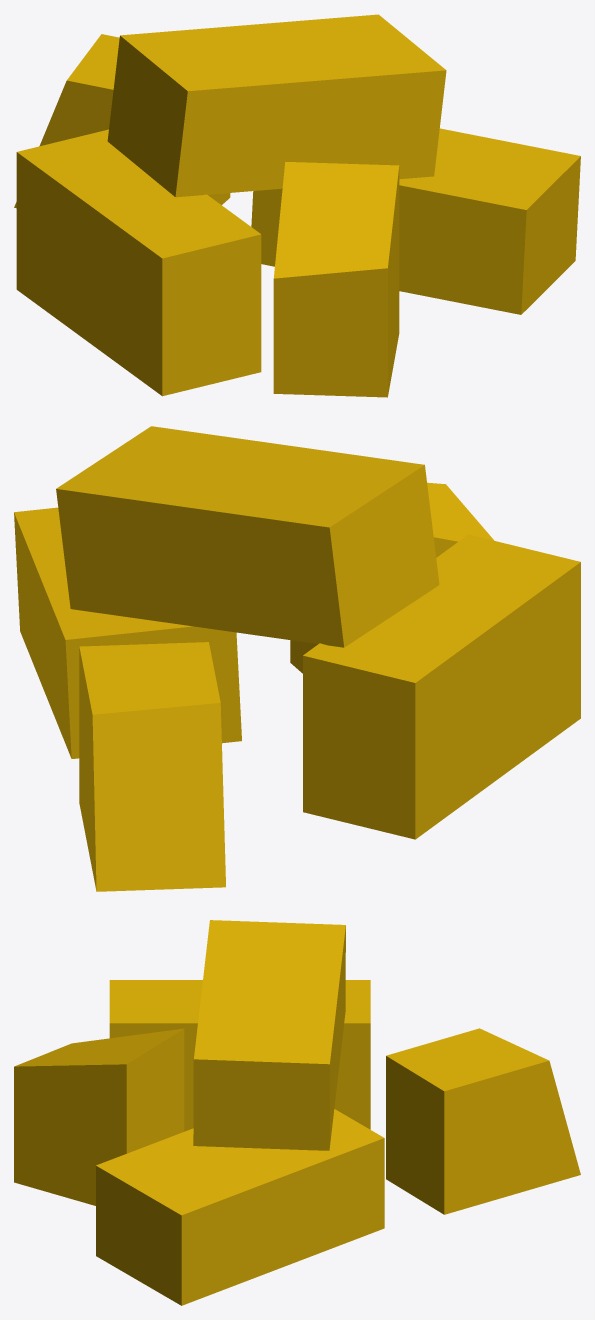
File: Cinderblock_Pile_01_Lod1.fbx
3 renders of one model, top to bottom at view 1: azimuth 30°, elevation 25°; view 2: azimuth 150°, elevation 25°; view 3: azimuth 270°, elevation 25°, orthographic. The views are drawn at different scales.
Parts seen in each view (by area): view 1: Cinderblock_Pile_01_Lod1; view 2: Cinderblock_Pile_01_Lod1; view 3: Cinderblock_Pile_01_Lod1.
Boxes of the visible parts, x1=… form: Cinderblock_Pile_01_Lod1: x1=14, y1=14, x2=580, y2=397; Cinderblock_Pile_01_Lod1: x1=14, y1=426, x2=580, y2=891; Cinderblock_Pile_01_Lod1: x1=14, y1=920, x2=580, y2=1305.
Size of the model in its own units: 93.02 by 48.22 by 111.
